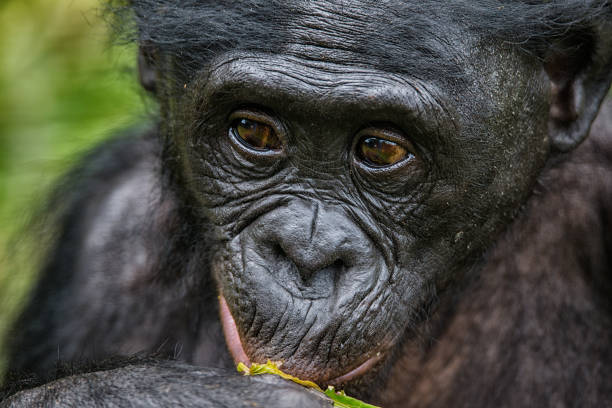chimpanzee: (97, 2, 611, 408)
